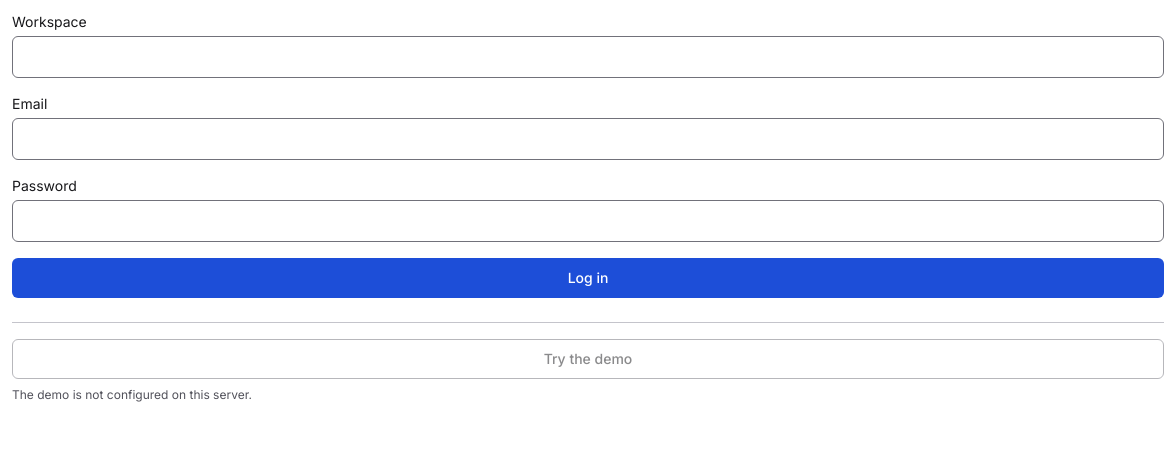
Test: wrong credentials show a clear message
Step 1. Type "acme" into the field labelled "Workspace" → (588, 57), box [12,36,1164,78]
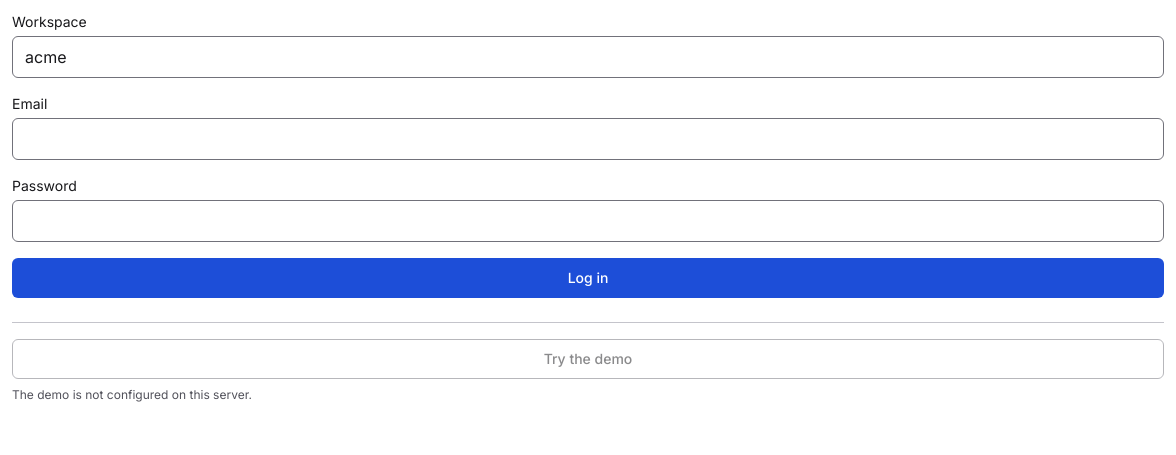
Step 2. Type "a@b.co" into the field labelled "Email" → (588, 139), box [12,118,1164,160]
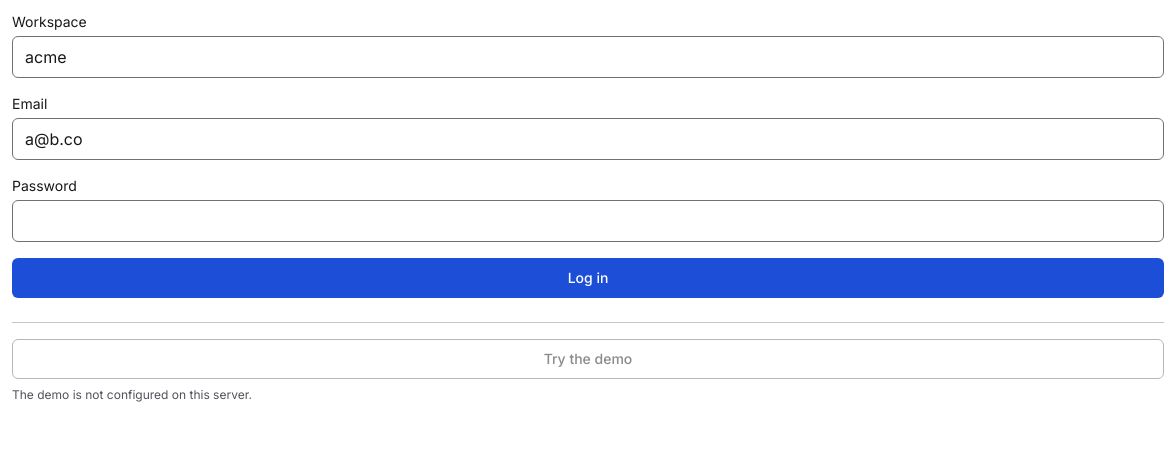
Step 3. Type "pw" into the password field labelled "Password" → (588, 221), box [12,200,1164,242]
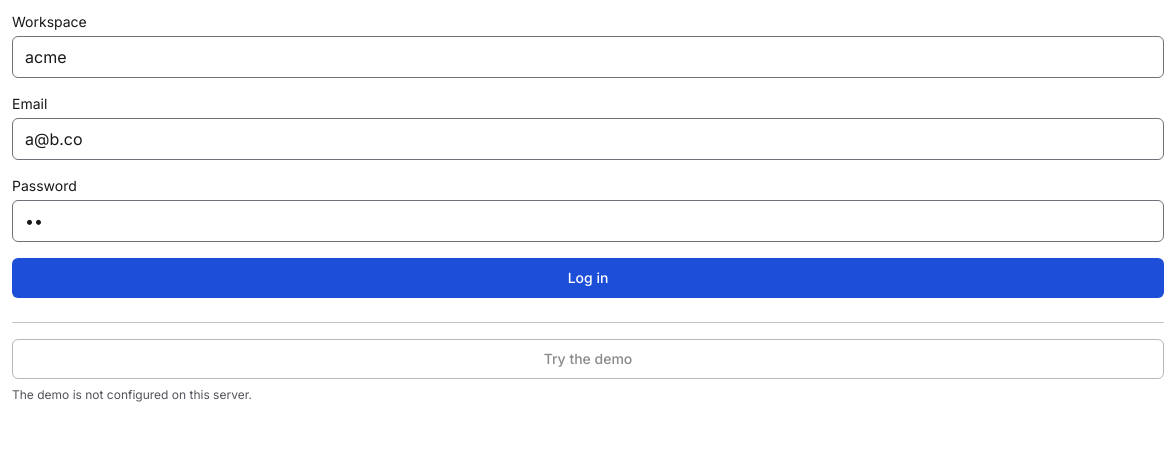
Step 4. Submit the form "Log in"
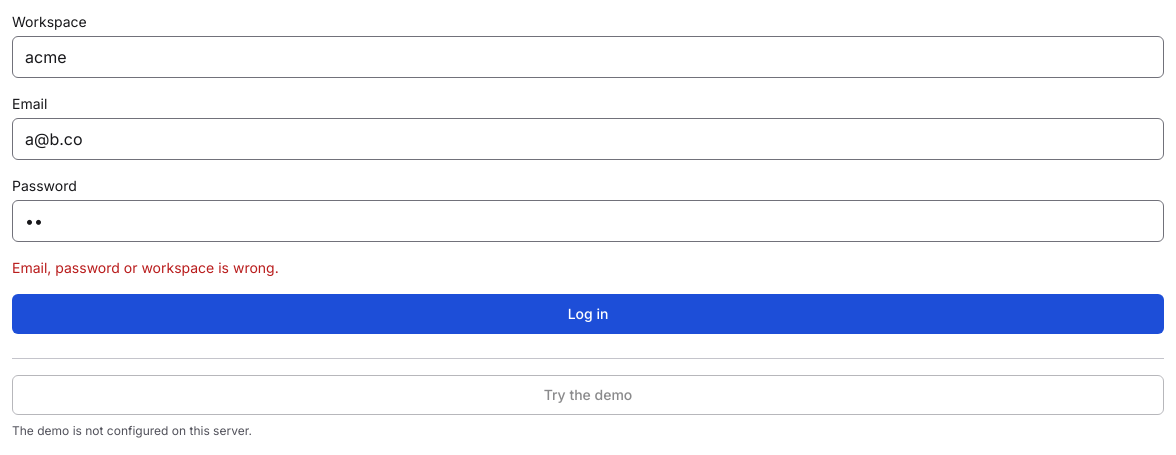
Check: the message reads "Email, password or workspace is wrong.", box [12,259,279,276]
